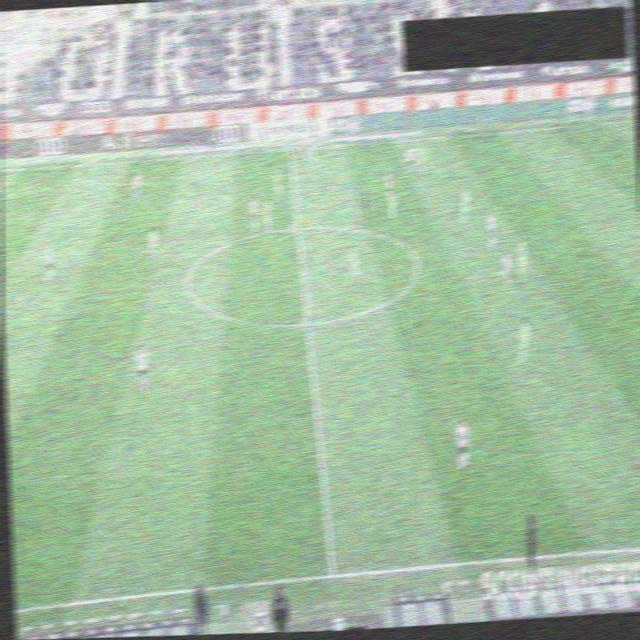halfcircle_bottom: (299, 316, 313, 329)
halfcircle_top: (290, 221, 304, 232)
midline_bottom_intersection: (323, 566, 341, 584)
midline_top_intersection: (283, 142, 296, 154)
